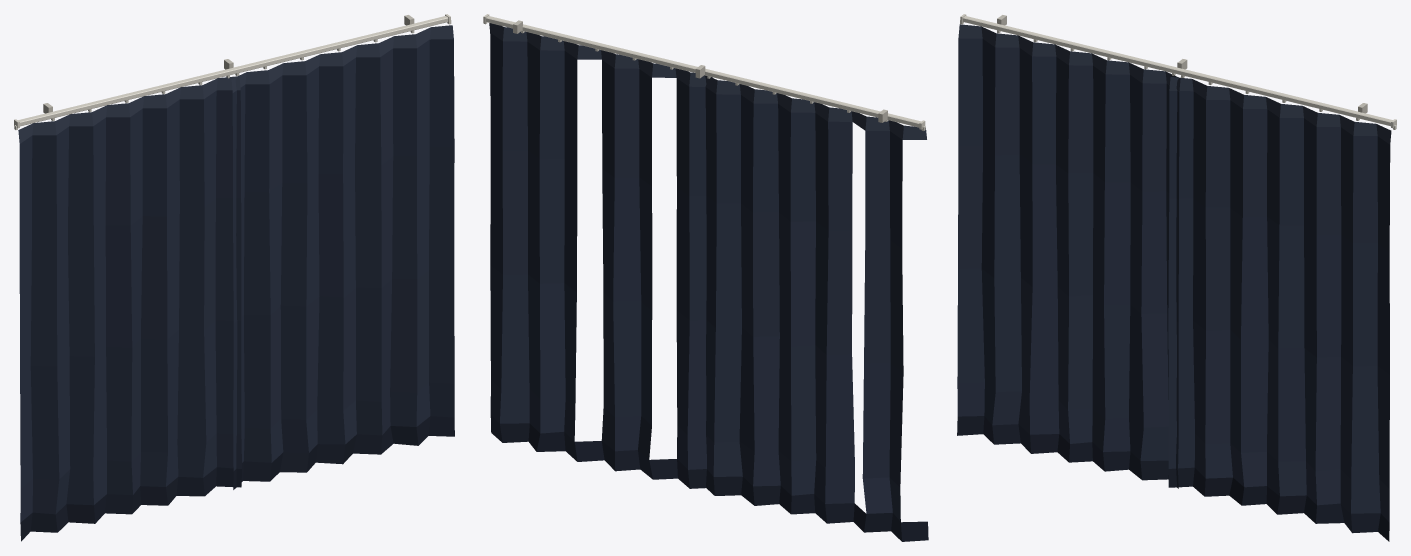
The model's file is curtains.glb.
The picture shows the model from 3 angles, left to right: view 1: azimuth 30°, elevation 25°; view 2: azimuth 150°, elevation 25°; view 3: azimuth 330°, elevation 25°; orthographic projection.
Parts seen in each view (by area): view 1: curtain_l, curtain_r, body; view 2: curtain_l, curtain_r, body; view 3: curtain_r, curtain_l, body.
Boxes of the visible parts, <box> form: curtain_l: <box>14,73,241,541</box>; curtain_r: <box>226,20,454,489</box>; body: <box>14,14,450,128</box>; curtain_l: <box>704,75,928,541</box>; curtain_r: <box>483,22,712,488</box>; body: <box>483,14,925,129</box>; curtain_r: <box>1168,73,1396,541</box>; curtain_l: <box>957,20,1184,488</box>; body: <box>960,14,1396,128</box>.
Bounding box in the file's own units: 2.41 × 2.23 × 0.1206.
